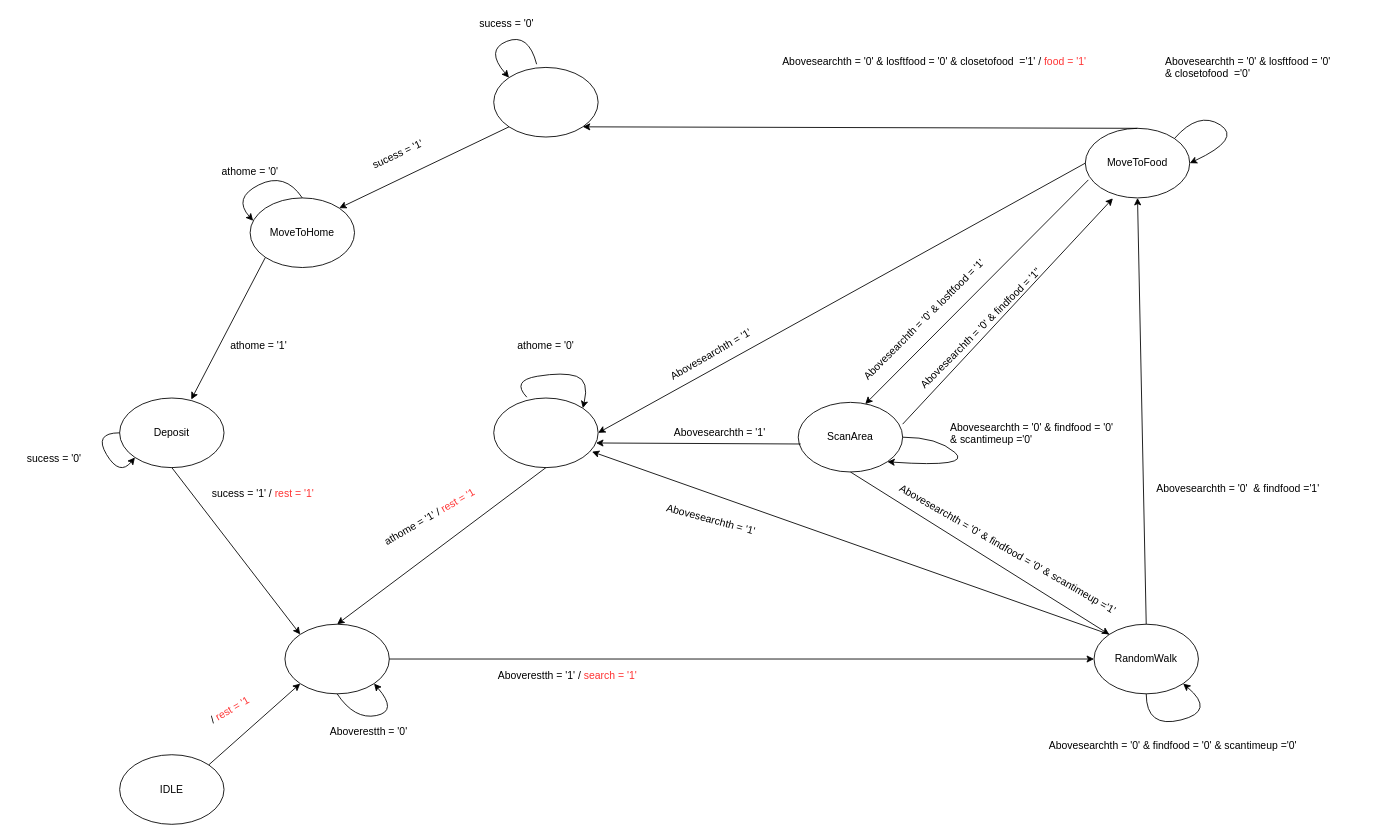
This 1387x840 diagram has some shape labels left out. The centre of each missing label's shape, as x and y in pixels:
GrabFood: [545,102]
Homming: [545,432]
Resting: [336,658]
